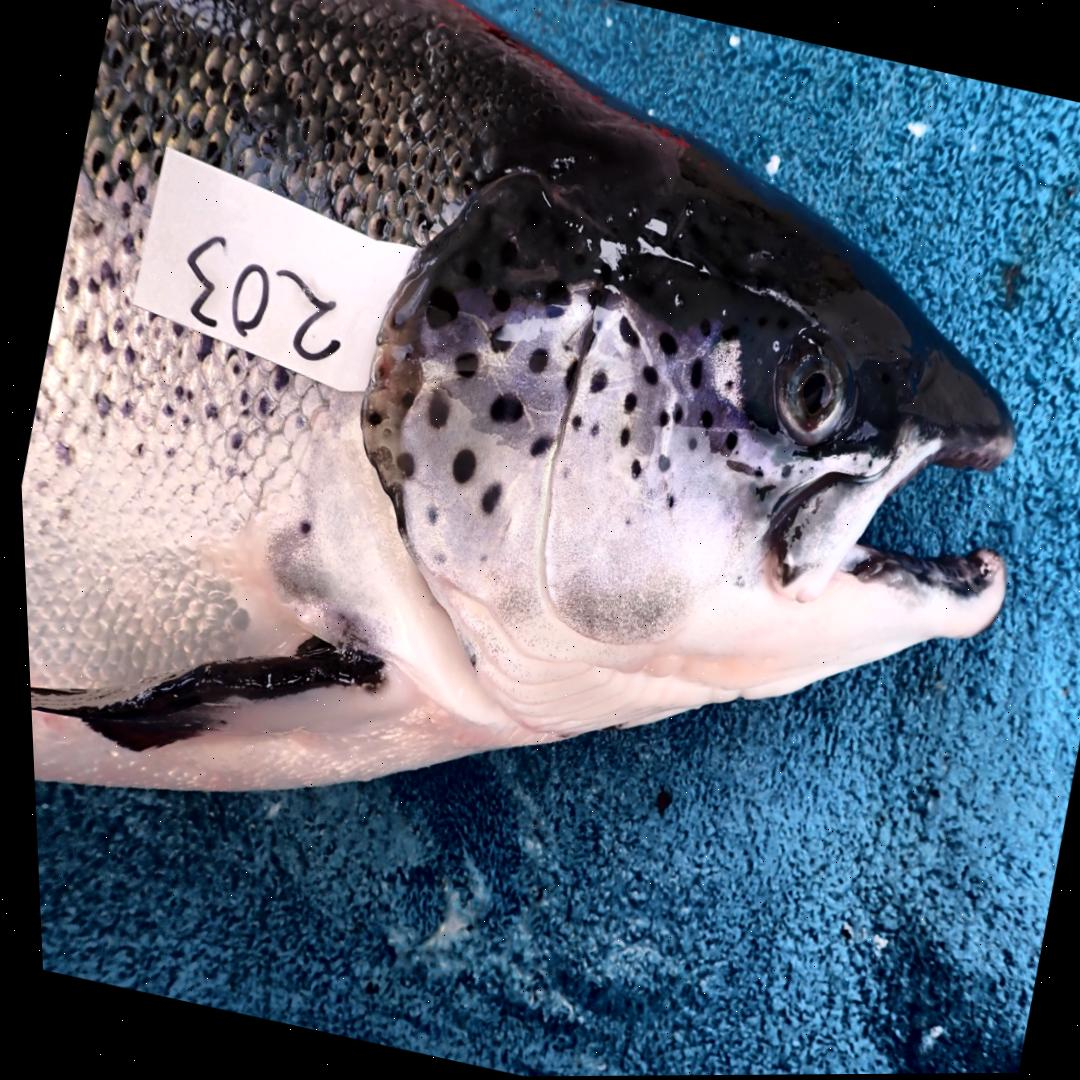spot: (421, 285, 455, 328), (484, 392, 519, 424), (540, 278, 567, 317), (422, 388, 446, 428), (446, 448, 471, 483), (484, 322, 509, 353), (475, 484, 496, 515), (450, 351, 474, 378), (614, 317, 635, 347), (390, 450, 411, 477), (523, 348, 543, 375), (653, 330, 672, 356), (584, 369, 603, 394), (559, 359, 573, 391), (524, 436, 545, 457), (488, 289, 507, 312), (684, 358, 698, 389), (583, 287, 603, 307), (638, 366, 653, 386), (618, 392, 632, 413), (720, 429, 733, 451), (716, 326, 735, 341), (361, 410, 376, 428), (385, 311, 400, 329), (421, 502, 432, 525), (651, 454, 665, 472), (395, 390, 409, 408), (566, 412, 578, 432), (697, 410, 709, 428), (614, 428, 624, 448), (696, 318, 707, 336), (653, 410, 664, 427), (625, 459, 635, 477), (668, 406, 678, 424), (682, 437, 693, 453), (584, 422, 595, 438), (719, 378, 730, 394), (584, 333, 591, 349), (661, 495, 668, 507), (374, 362, 379, 375), (399, 351, 407, 359)
